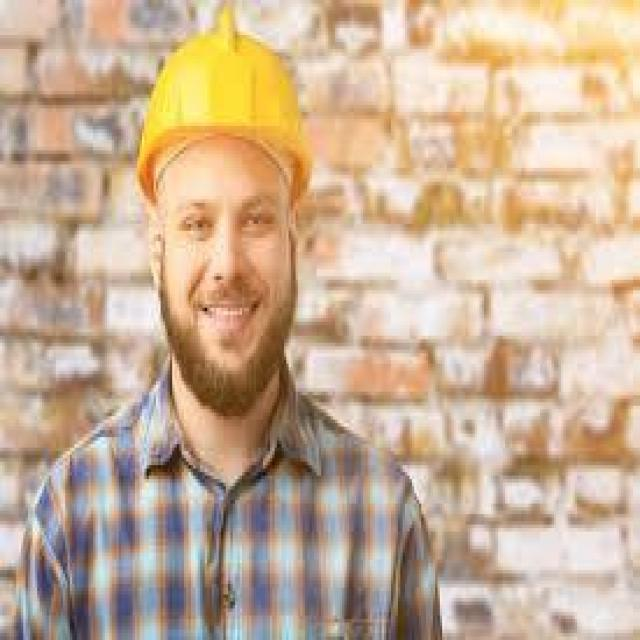hat: (135, 7, 314, 196)
